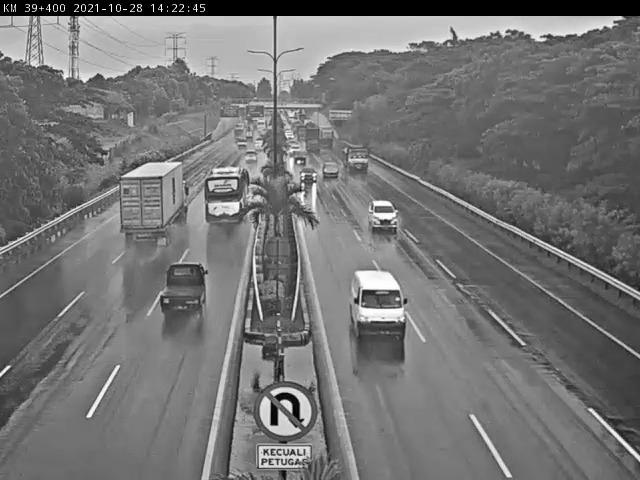big bus: (204, 166, 251, 226)
car: (349, 270, 410, 338), (154, 261, 212, 326), (367, 200, 403, 232), (321, 160, 341, 179), (297, 167, 318, 183)
truck-xl-: (121, 161, 190, 242), (344, 143, 371, 172)
